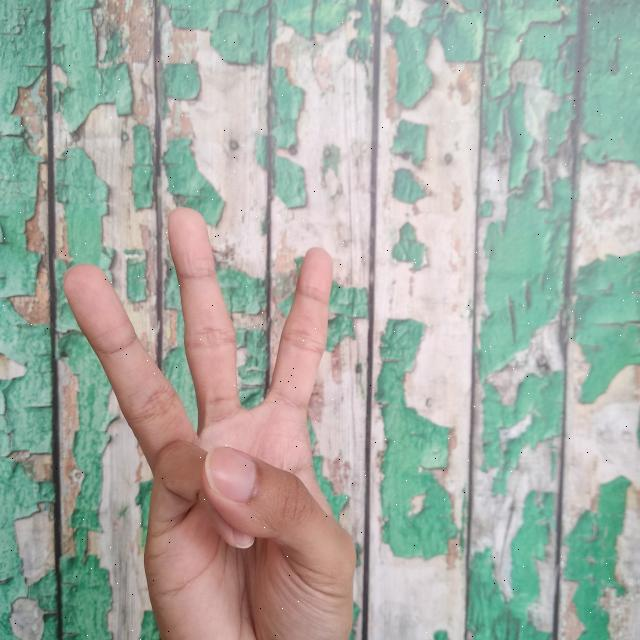W: (56, 196, 374, 640)
